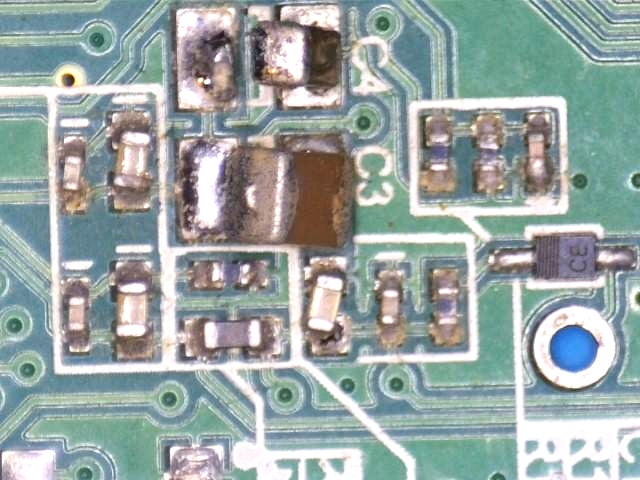pcb_defect: (175, 130, 357, 249), (174, 3, 344, 112), (304, 255, 351, 358)
